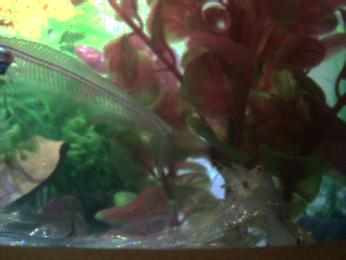glassfish: (1, 33, 210, 176), (1, 212, 80, 247)
siberian prawn: (222, 159, 302, 246)
